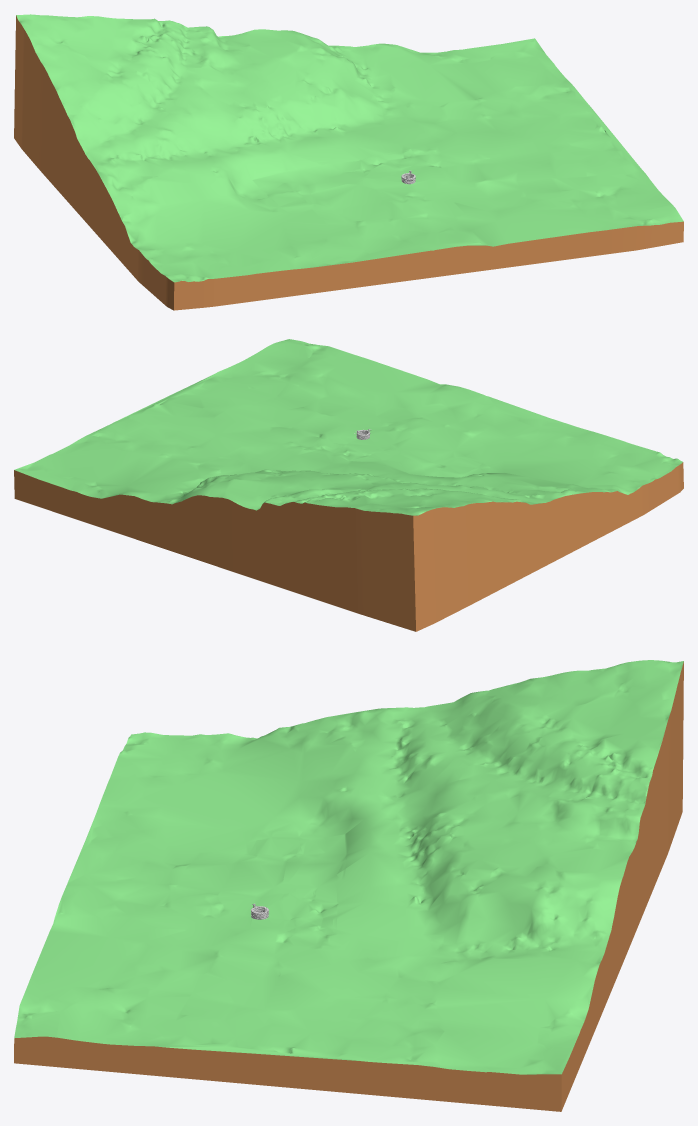
The model's file is teren.dae.
The picture shows the model from 3 angles, top to bottom: view 1: azimuth 30°, elevation 25°; view 2: azimuth 150°, elevation 25°; view 3: azimuth 270°, elevation 25°; orthographic projection. The views are drawn at different scales.
Parts seen in each view (by area): view 1: teren_v3, group_0; view 2: teren_v3, group_0; view 3: teren_v3, group_0.
Part boxes in pixels (x1,y1,x2,y2): teren_v3: (16,14,683,282); group_0: (14,15,683,310); teren_v3: (14,339,682,515); group_0: (14,462,683,631); teren_v3: (14,660,683,1074); group_0: (14,662,683,1111).
Size of the model in its own units: 3315 by 2881 by 785.
